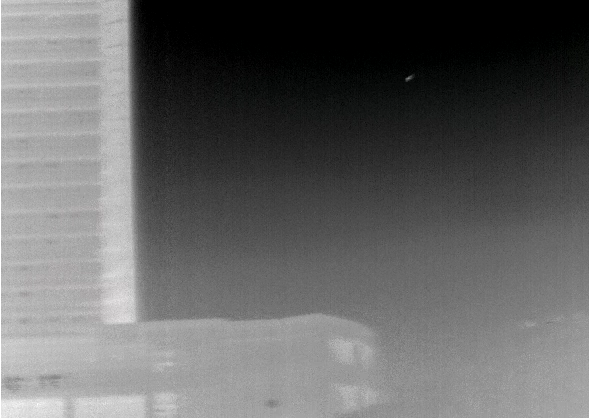dim target: (404, 75, 412, 82)
